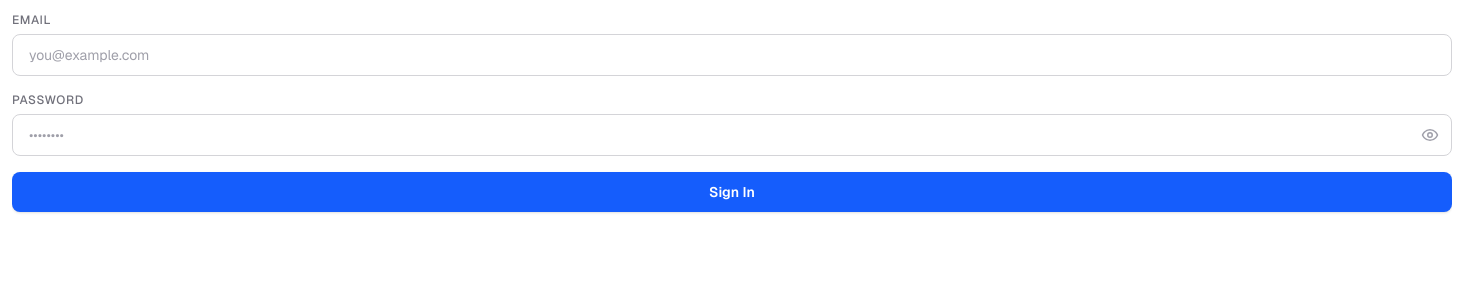
Scenario: LoginForm › shows a retryable connection message for network failures
Type "u@example.com" into the field labelled "Email".
click(732, 55); type("u@example.com")  # box [12,34,1452,76]
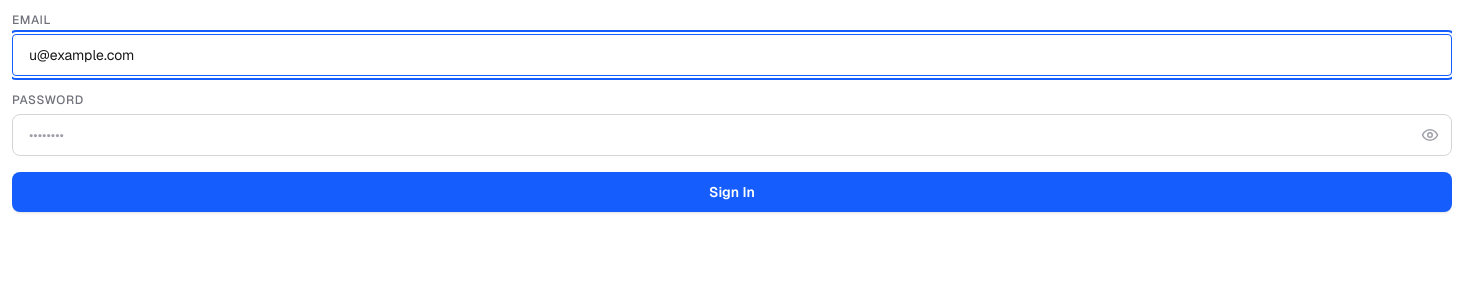
Type "password123" into the password field labelled "Password".
click(732, 135); type("password123")  # box [12,114,1452,156]
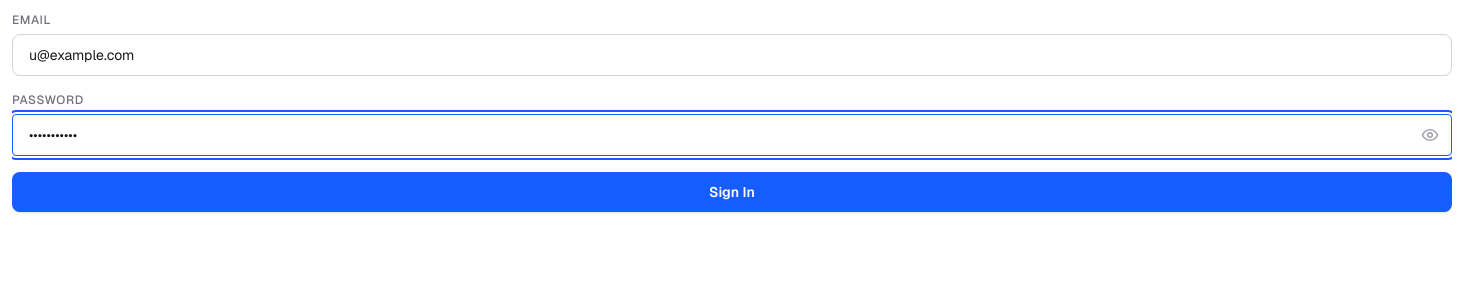
Click the button "Sign In".
click(732, 192)  # box [12,172,1452,212]
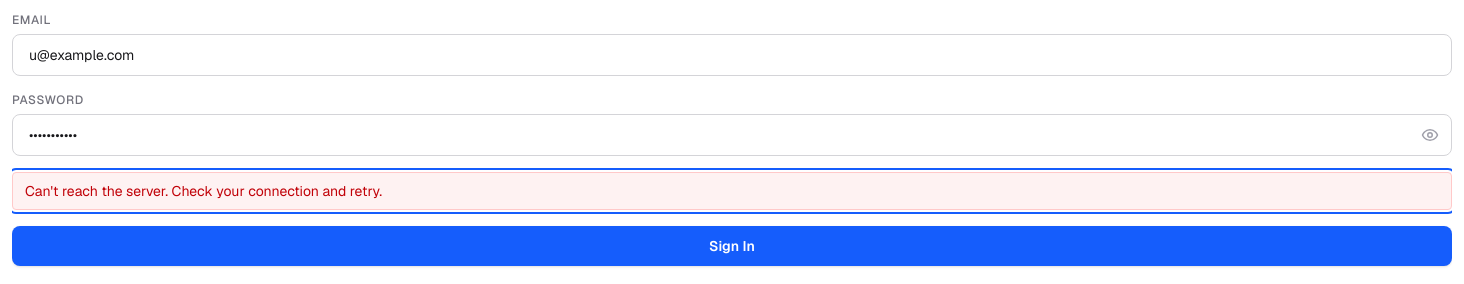
Now the message shows "Can't reach the server", box [25,182,382,200]
